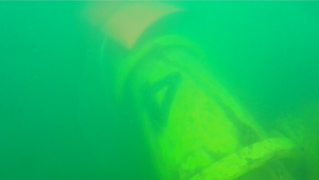4: (139, 70, 182, 135)
leak: (94, 1, 200, 50)
pipe: (113, 34, 302, 180), (265, 102, 319, 175)
